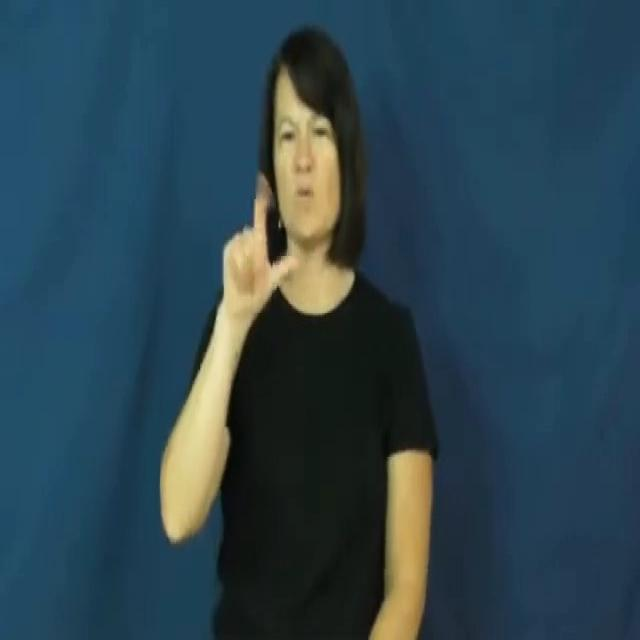cold: (213, 168, 303, 350)
